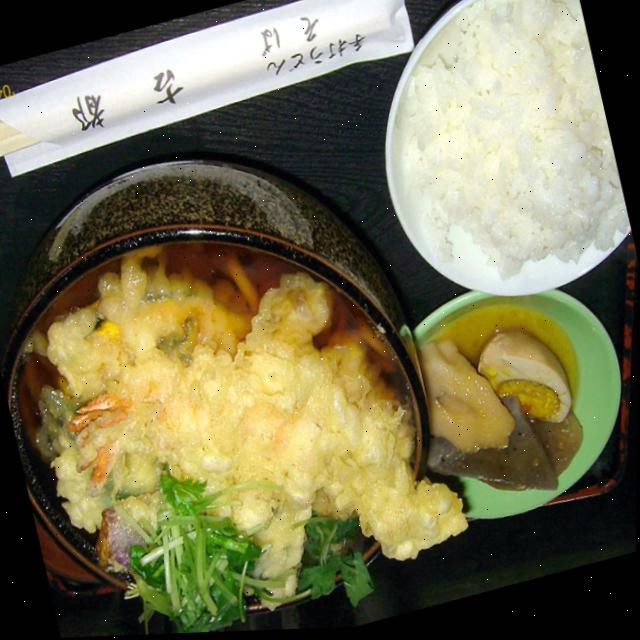面条主食: (0, 153, 467, 640)
